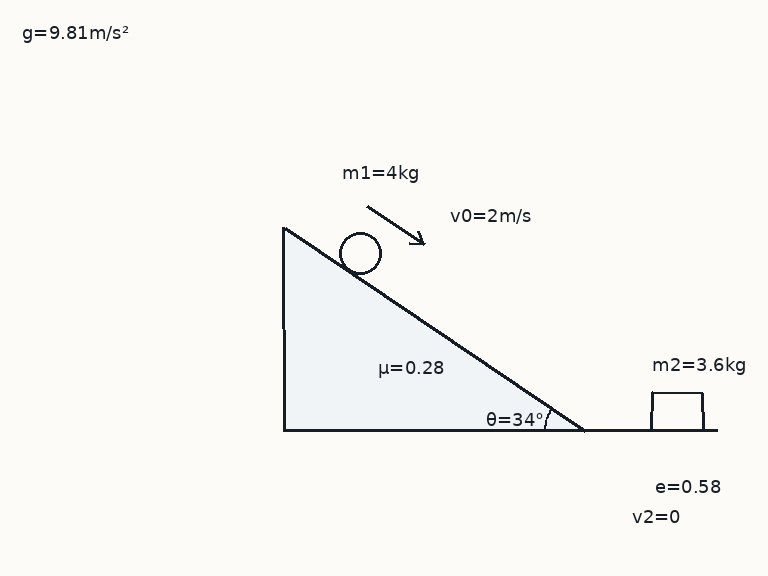ball: (337, 230, 383, 276)
block: (649, 391, 705, 432)
ramp: (282, 225, 587, 432)
